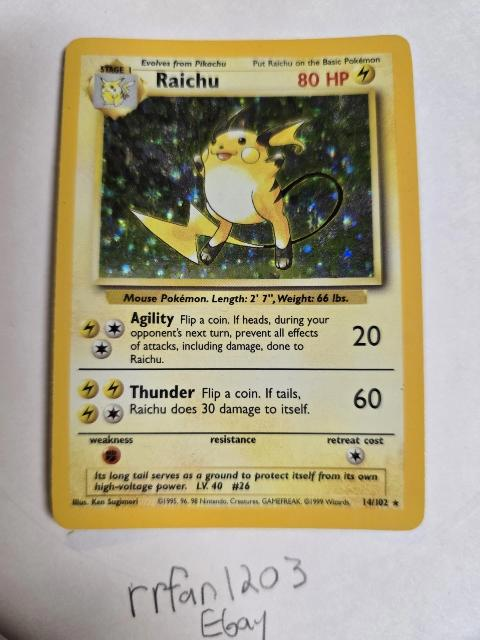Card: (45, 29, 428, 538)
Name: (148, 69, 226, 94)
